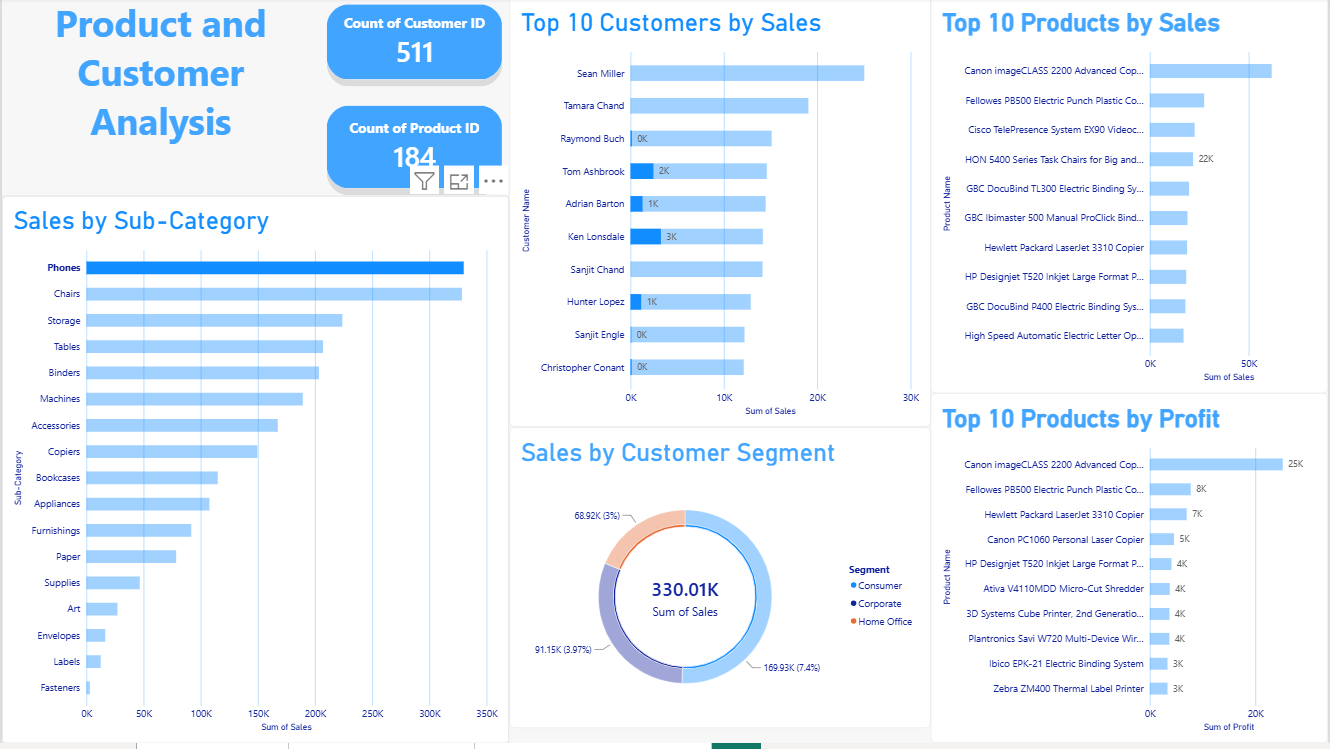

Layout of this report page (visuals, bound fields, positions):
{"tool":"powerbi","page":{"name":"Product_Customer_Analysis","canvas":[1920,1080],"ordinal":2},"visuals":[{"type":"cardVisual","fields":{"Data":["Count(Superstore.Customer ID)"]},"box":[459.7,0,275.1,130.3],"z":0},{"type":"cardVisual","fields":{"Data":["Count(Superstore.Product ID)"]},"box":[459.7,146.6,275.1,141.2],"z":1},{"type":"barChart","title":"Top 10 Products by Sales","fields":{"Category":["Superstore.Product Name"],"Y":["Sum(Superstore.Sales)"]},"box":[1344.6,0,575.5,573.7],"z":2},{"type":"barChart","title":"Top 10 Products by Profit","fields":{"Category":["Superstore.Product Name"],"Y":["Sum(Superstore.Profit)"]},"box":[1344.6,573.7,575.5,506.7],"z":3},{"type":"donutChart","title":"Sales by Customer Segment","fields":{"Category":["Superstore.Segment"],"Y":["Sum(Superstore.Sales)"]},"box":[734.7,622.5,609.9,436.1],"z":4},{"type":"barChart","title":"Top 10 Customers by Sales","fields":{"Category":["Superstore.Customer Name"],"Y":["Sum(Superstore.Sales)"]},"box":[734.7,0,609.9,622.5],"z":5},{"type":"barChart","title":"Sales by Sub-Category","fields":{"Category":["Superstore.Sub-Category"],"Y":["Sum(Superstore.Sales)"]},"box":[0,287.7,734.7,792.6],"z":6},{"type":"textbox","box":[0,0,459.7,217.2],"z":7}]}

Visuals, with their boxes in screenshot pixels (x1, y1, x2, y2), scaled from the page's 1920x1080 canvas onto the 1330x749 screenshot:
cardVisual - Count(Superstore.Customer ID): locate(318, 0, 509, 90)
cardVisual - Count(Superstore.Product ID): locate(318, 102, 509, 200)
"Top 10 Products by Sales" barChart: locate(931, 0, 1329, 398)
"Top 10 Products by Profit" barChart: locate(931, 398, 1329, 748)
"Sales by Customer Segment" donutChart: locate(509, 432, 931, 734)
"Top 10 Customers by Sales" barChart: locate(509, 0, 931, 432)
"Sales by Sub-Category" barChart: locate(0, 200, 509, 748)
textbox: locate(0, 0, 318, 151)
